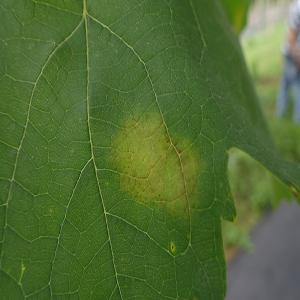Folha: (0, 0, 299, 298)
Fungo: (112, 107, 211, 214), (169, 241, 176, 254), (171, 243, 175, 251)
